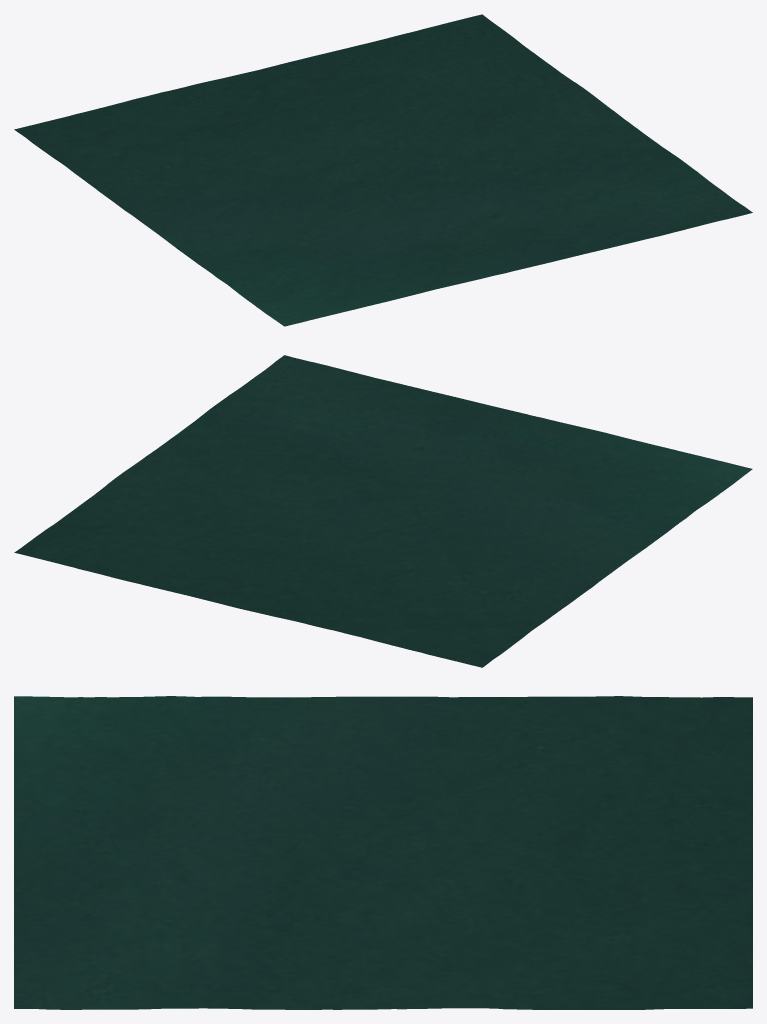
3 renders of one model, top to bottom at view 1: azimuth 30°, elevation 25°; view 2: azimuth 150°, elevation 25°; view 3: azimuth 270°, elevation 25°, orthographic. The views are drawn at different scales.
Bounding box in the file's own units: 209 × 0.8509 × 209.
2 materials, 2 textured.
